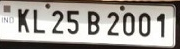0: (138, 12, 151, 38), (122, 11, 135, 36)
1: (156, 13, 166, 37)
2: (106, 11, 120, 35), (52, 10, 64, 34)
5: (67, 10, 80, 35)
B: (87, 10, 100, 36)
K: (18, 7, 30, 33)
L: (33, 9, 46, 34)
